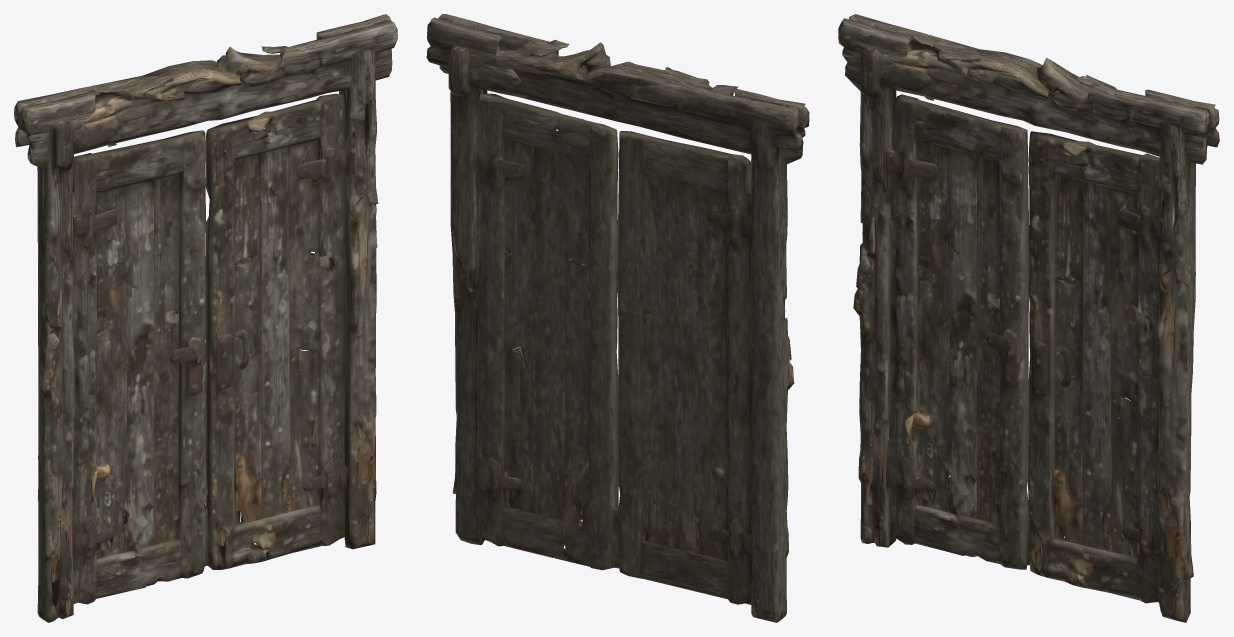
Rendered from level-xw0-double-door.glb.
3 renders of one model, left to right at view 1: azimuth 30°, elevation 25°; view 2: azimuth 150°, elevation 25°; view 3: azimuth 330°, elevation 25°, orthographic.
Parts seen in each view (by area): view 1: tripo_node_157f31ff-ce0f-4889-971d-43f4c593984c; view 2: tripo_node_157f31ff-ce0f-4889-971d-43f4c593984c; view 3: tripo_node_157f31ff-ce0f-4889-971d-43f4c593984c.
Part boxes in pixels (x1,y1,x2,y2): tripo_node_157f31ff-ce0f-4889-971d-43f4c593984c: (14, 14, 397, 622); tripo_node_157f31ff-ce0f-4889-971d-43f4c593984c: (426, 14, 809, 622); tripo_node_157f31ff-ce0f-4889-971d-43f4c593984c: (838, 14, 1219, 622).
Size of the model in its own units: 1.55 by 2.1 by 0.16.
1 material, 1 textured.
